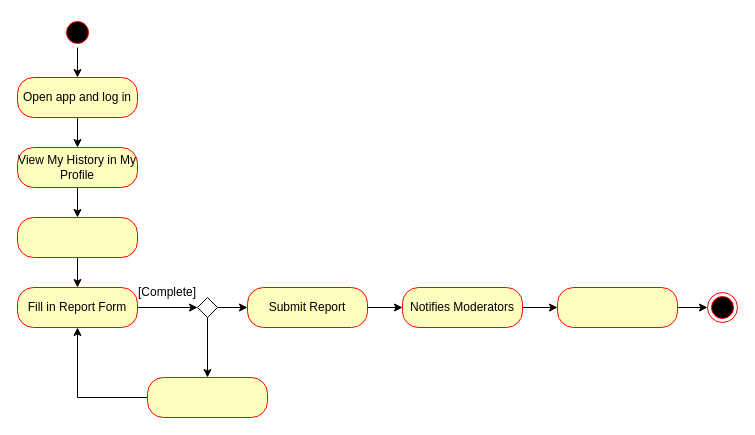
This 755x435 diagram has some shape labels left out. The centre of each missing label's shape, as x and y in pixels:
Incomplete Form: point (207, 397)
Show Confirmation Message: point (617, 307)
Tap “Report Seller”: point (77, 237)
